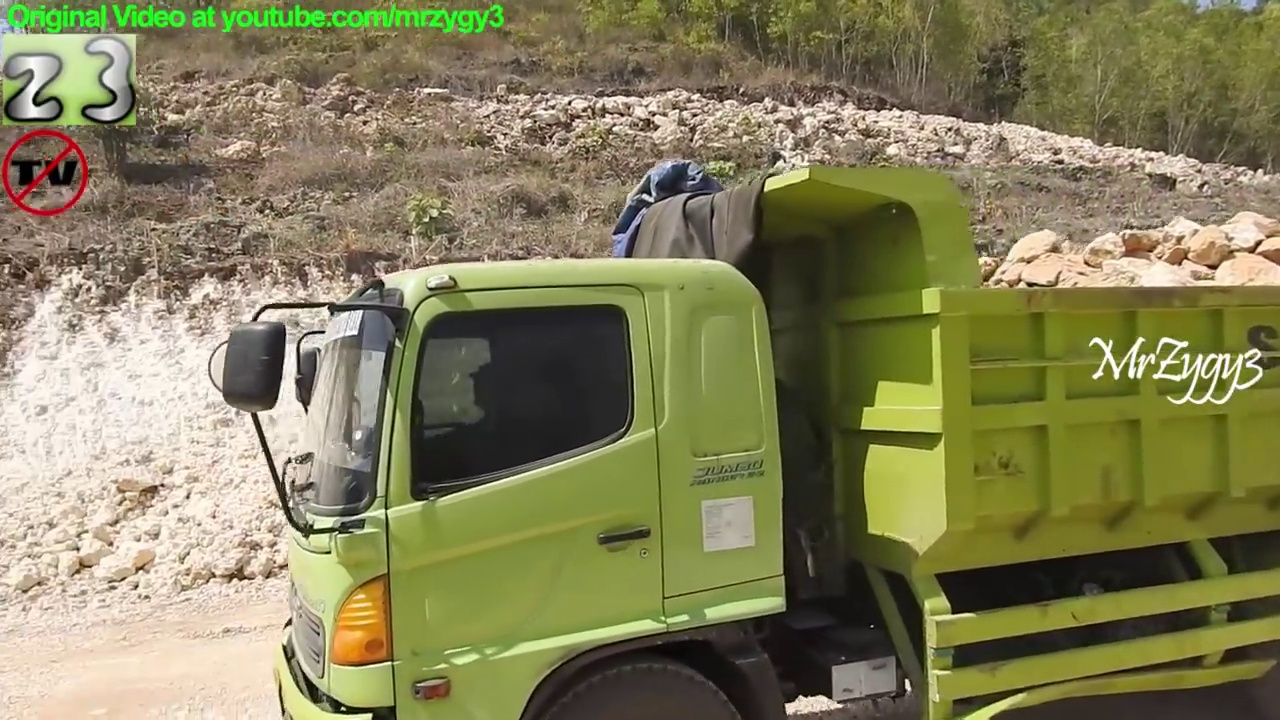truck: (203, 152, 1280, 720)
